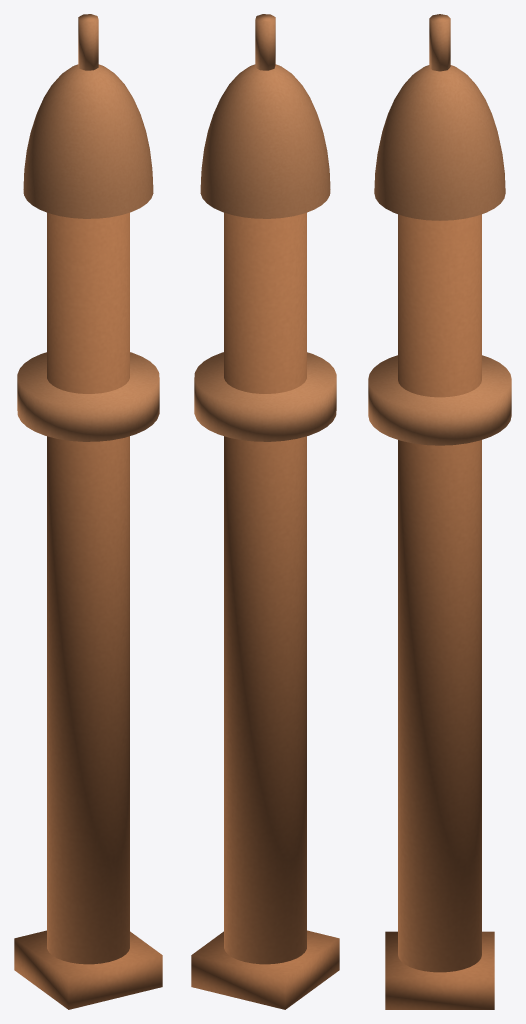
Rendered from SM_Souq_Minaret.fbx.
3 renders of one model, left to right at view 1: azimuth 30°, elevation 25°; view 2: azimuth 150°, elevation 25°; view 3: azimuth 270°, elevation 25°, orthographic.
Visible parts, largest first — view 1: SM_Souq_Minaret; view 2: SM_Souq_Minaret; view 3: SM_Souq_Minaret.
Boxes of the visible parts, x1,y1,x2,y2 form: SM_Souq_Minaret: [14, 14, 162, 1009]; SM_Souq_Minaret: [191, 14, 339, 1009]; SM_Souq_Minaret: [368, 14, 511, 1009].
Bounding box in the file's own units: 2.42 × 18.03 × 2.42.
Materials: 2 (2 with a texture image).
